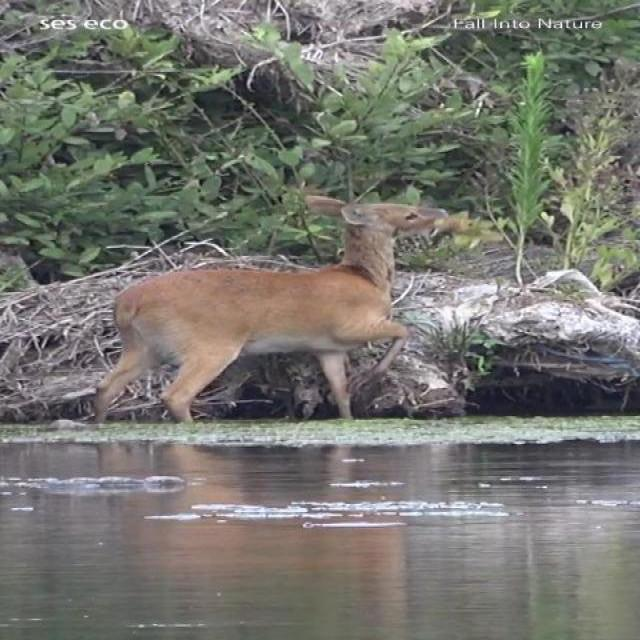deer: (86, 194, 456, 415)
